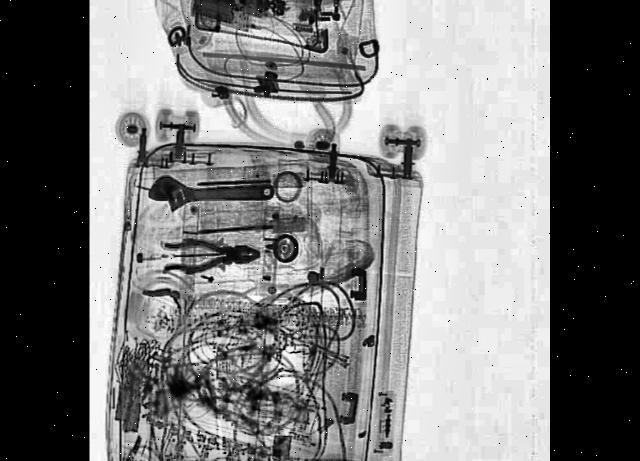Pliers: (164, 236, 260, 276)
Wrench: (148, 174, 274, 214)
